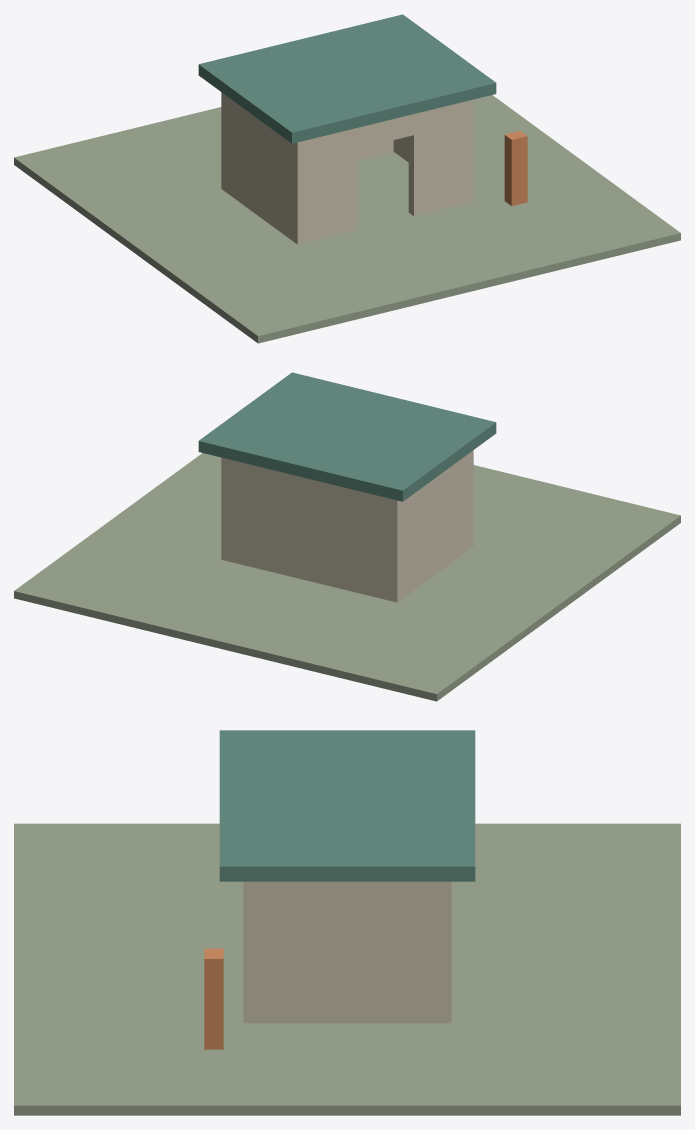
The model's file is validation.glb.
3 views of the same model, one above another, from view 1: azimuth 30°, elevation 25°; view 2: azimuth 150°, elevation 25°; view 3: azimuth 270°, elevation 25° (orthographic). The views are drawn at different scales.
Parts seen in each view (by area): view 1: Ground 12m, Shading roof, Left door pier, Right door pier, Left wall, Human height reference 1.8m, Door lintel 1.6m wide opening / 2.2m clear, Rear wall; view 2: Ground 12m, Shading roof, Rear wall, Left wall; view 3: Ground 12m, Shading roof, Right wall, Rear wall, Right door pier, Human height reference 1.8m.
Part boxes in pixels (left/top/right/bottom): Ground 12m: left=14, top=95, right=680, bottom=343; Shading roof: left=198, top=14, right=496, bottom=143; Left door pier: left=292, top=128, right=357, bottom=244; Right door pier: left=408, top=99, right=473, bottom=215; Left wall: left=226, top=96, right=294, bottom=240; Human height reference 1.8m: left=504, top=131, right=527, bottom=205; Door lintel 1.6m wide opening / 2.2m clear: left=357, top=114, right=413, bottom=148; Rear wall: left=221, top=92, right=393, bottom=191; Ground 12m: left=14, top=453, right=680, bottom=701; Shading roof: left=198, top=372, right=496, bottom=501; Rear wall: left=221, top=457, right=402, bottom=602; Left wall: left=400, top=452, right=471, bottom=598; Ground 12m: left=14, top=823, right=680, bottom=1115; Shading roof: left=219, top=730, right=475, bottom=881; Right wall: left=250, top=881, right=444, bottom=1023; Rear wall: left=437, top=881, right=451, bottom=1023; Right door pier: left=243, top=881, right=257, bottom=1023; Human height reference 1.8m: left=204, top=948, right=223, bottom=1049.
Size of the model in its own units: 12 by 3.5 by 12.
